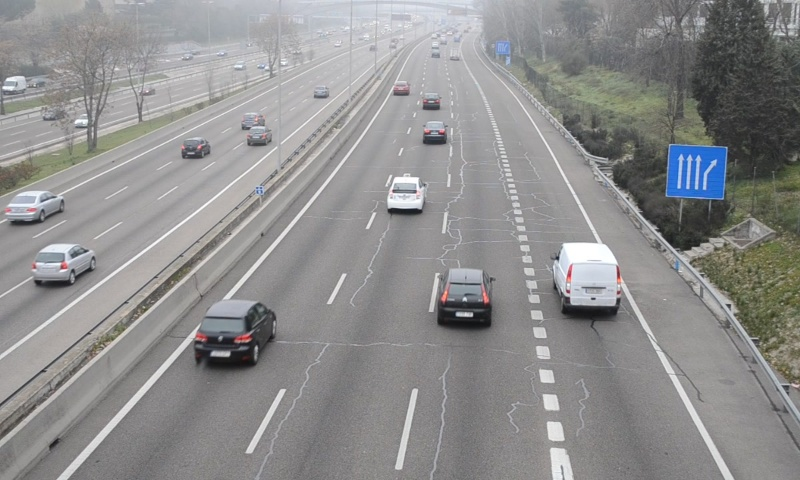car: (194, 299, 276, 362), (438, 267, 492, 322), (387, 175, 426, 208), (423, 120, 447, 145), (422, 90, 441, 112), (392, 80, 410, 96)
van: (554, 242, 621, 310)
